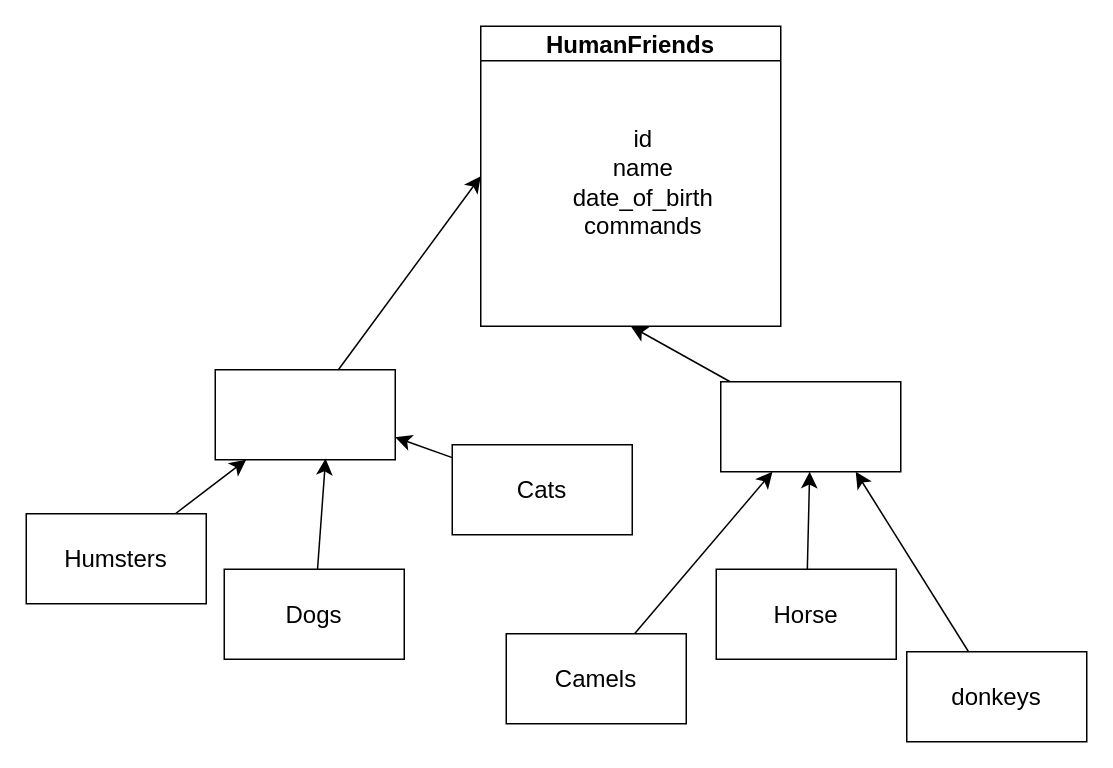
The diagram is 1113 pixels wide and 768 high, and some of its shapes have lost their labels. The shapes that lost their labels are listed below. From the top down, each one's centre as x and y in pixels, then its label:
point 304,414: Pets
point 810,426: Pack animals
